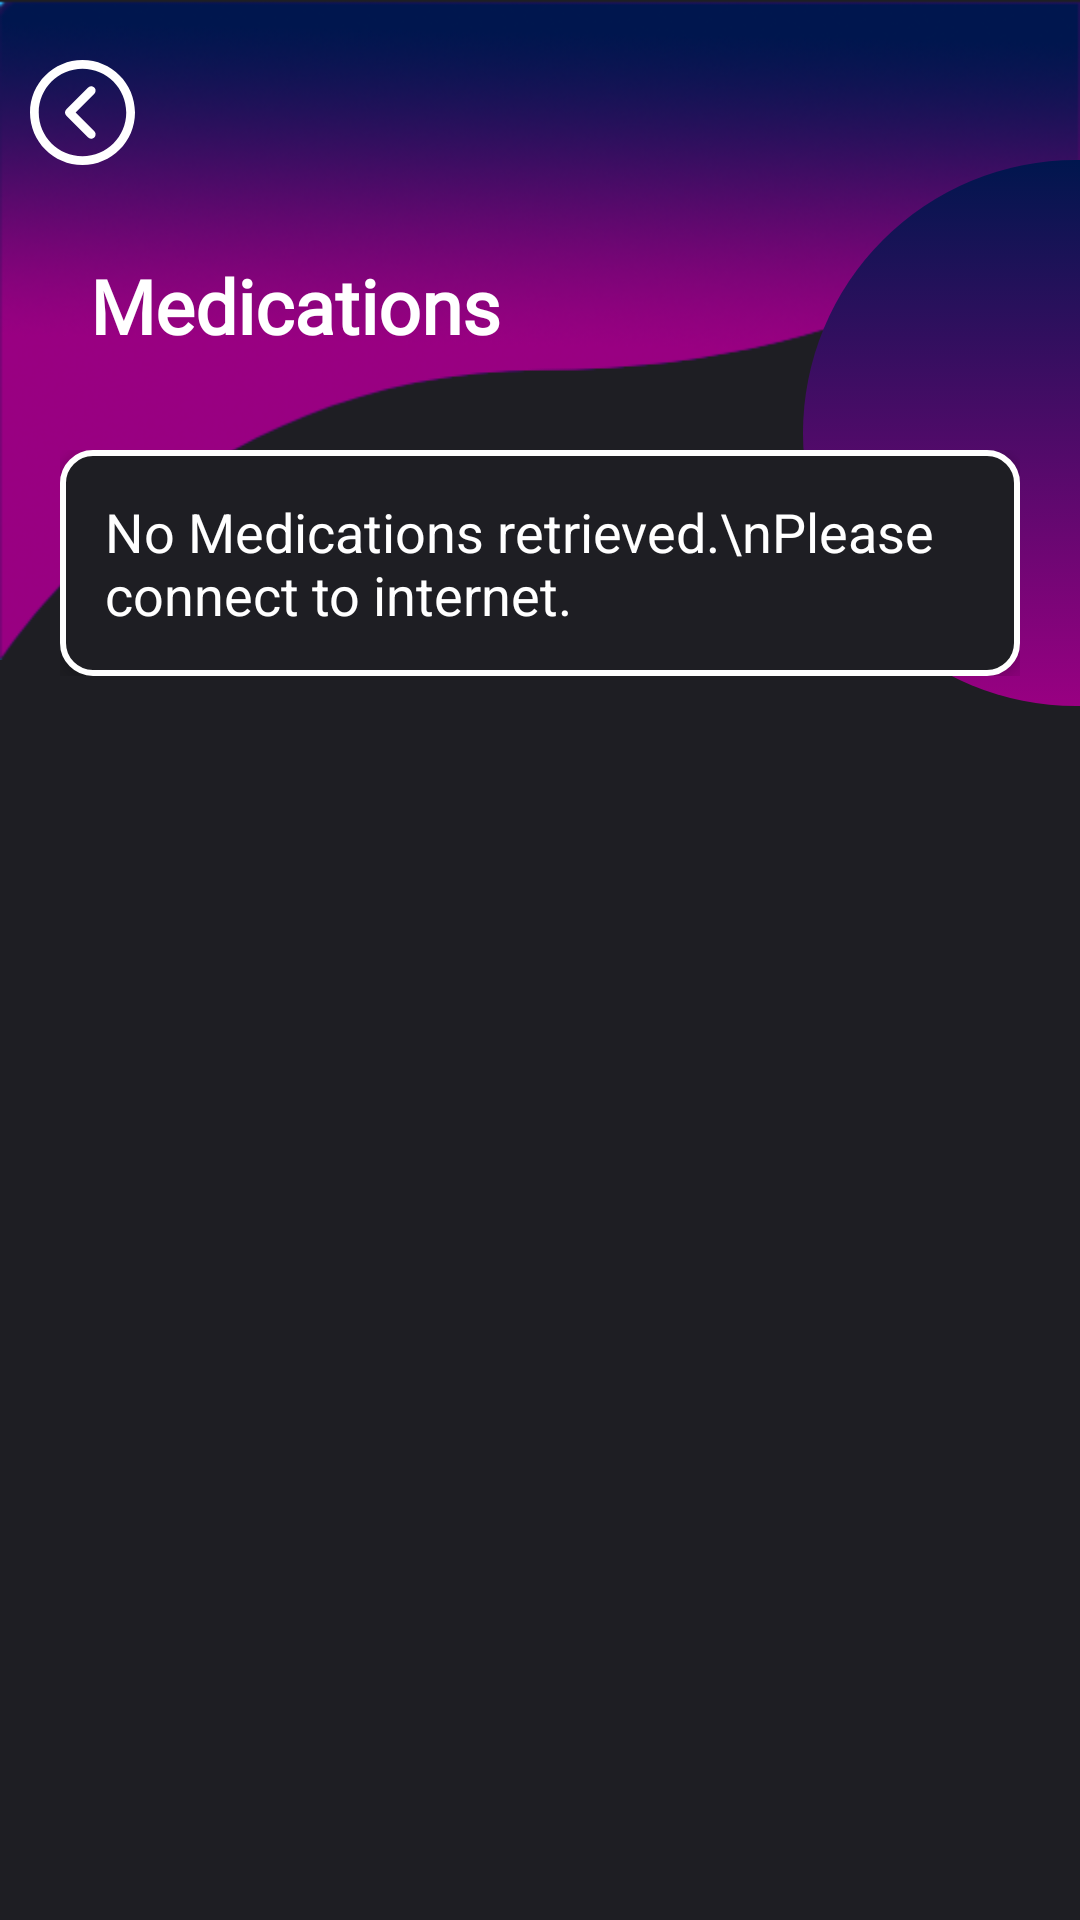

Named icons in this screenshot (1080px x 1920px) and their centers, point (x, y):
previous: point (82, 112)
